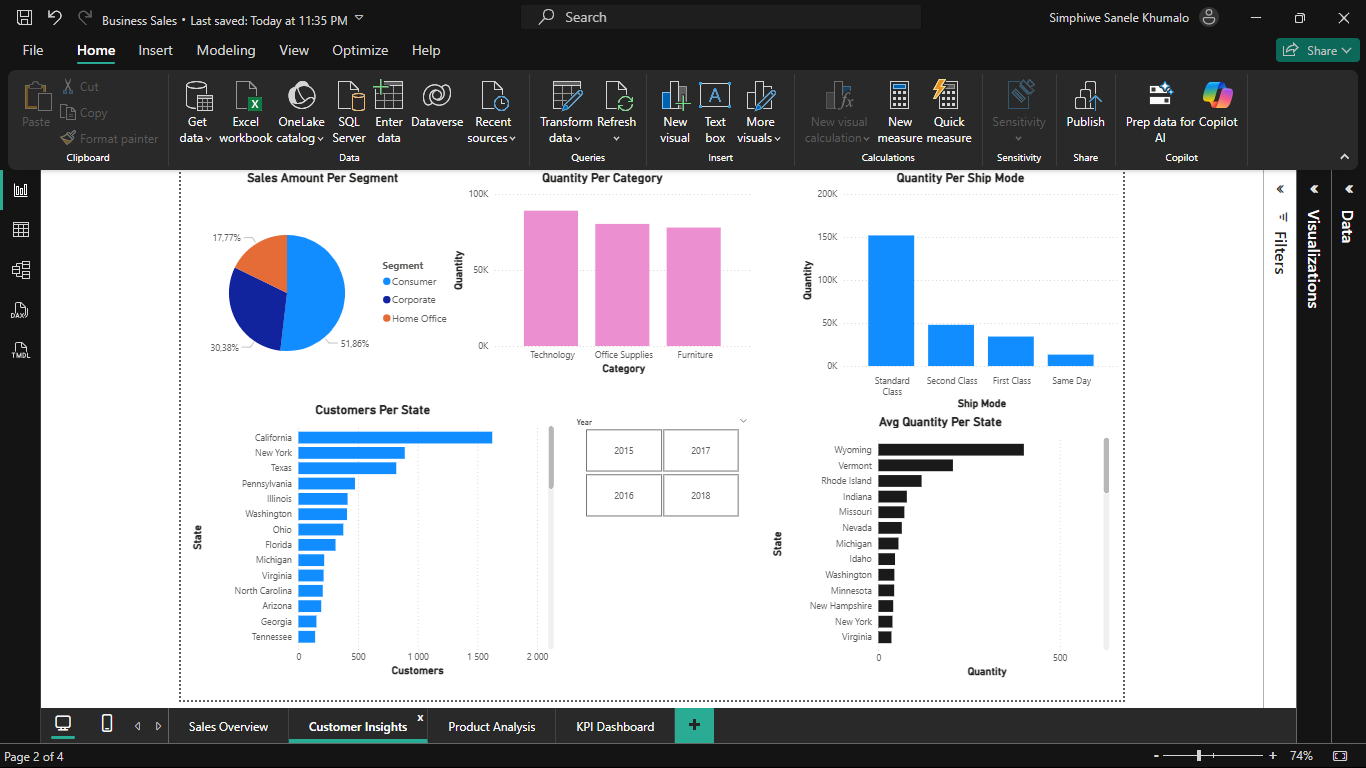

This screenshot's page, from the dashboard's own definition file:
{"tool":"powerbi","page":{"name":"Customer Insights","canvas":[1280,720],"ordinal":1},"visuals":[{"type":"pieChart","title":"Sales Amount Per Segment","fields":{"Category":["Sales_Info.Segment"],"Y":["Sum(Sales_Info.Sales Amount)"]},"box":[9.6,0,366.1,315.2],"z":0},{"type":"slicer","fields":{"Values":["Sales_Info.Order Date.Variation.Date Hierarchy.Year"]},"box":[524.1,330.9,257,146.1],"z":1},{"type":"clusteredColumnChart","title":"Quantity Per Category","fields":{"Category":["Sales_Info.Category"],"Y":["Sum(Sales_Info.Quantity)"]},"box":[364.7,0,417,282.2],"z":2},{"type":"clusteredColumnChart","title":"Quantity Per Ship Mode","fields":{"Category":["Sales_Info.Ship Mode"],"Y":["Sum(Sales_Info.Quantity)"]},"box":[838.2,0,441.8,330.3],"z":3},{"type":"clusteredBarChart","title":"Customers Per State","fields":{"Category":["Sales_Info.State"],"Y":["CountNonNull(Sales_Info.Customer ID)"]},"box":[10.1,315.8,502.3,378],"z":4},{"type":"clusteredBarChart","title":"Avg Quantity Per State","fields":{"Category":["Sales_Info.State"],"Y":["Sales_Info.Avg Product Sold"]},"box":[797.9,330.9,468.7,362.8],"z":5}]}

Visuals, with their boxes on the page's 1280x720 design canvas (x1, y1, x2, y2). These are canvas units, not pixel positions in the 1366x768 screenshot, which may show the page scaled, cropped or inside an application window:
"Sales Amount Per Segment" pieChart: region(10, 0, 376, 315)
slicer - Sales_Info.Order Date.Variation.Date Hierarchy.Year: region(524, 331, 781, 477)
"Quantity Per Category" clusteredColumnChart: region(365, 0, 782, 282)
"Quantity Per Ship Mode" clusteredColumnChart: region(838, 0, 1280, 330)
"Customers Per State" clusteredBarChart: region(10, 316, 512, 694)
"Avg Quantity Per State" clusteredBarChart: region(798, 331, 1267, 694)
